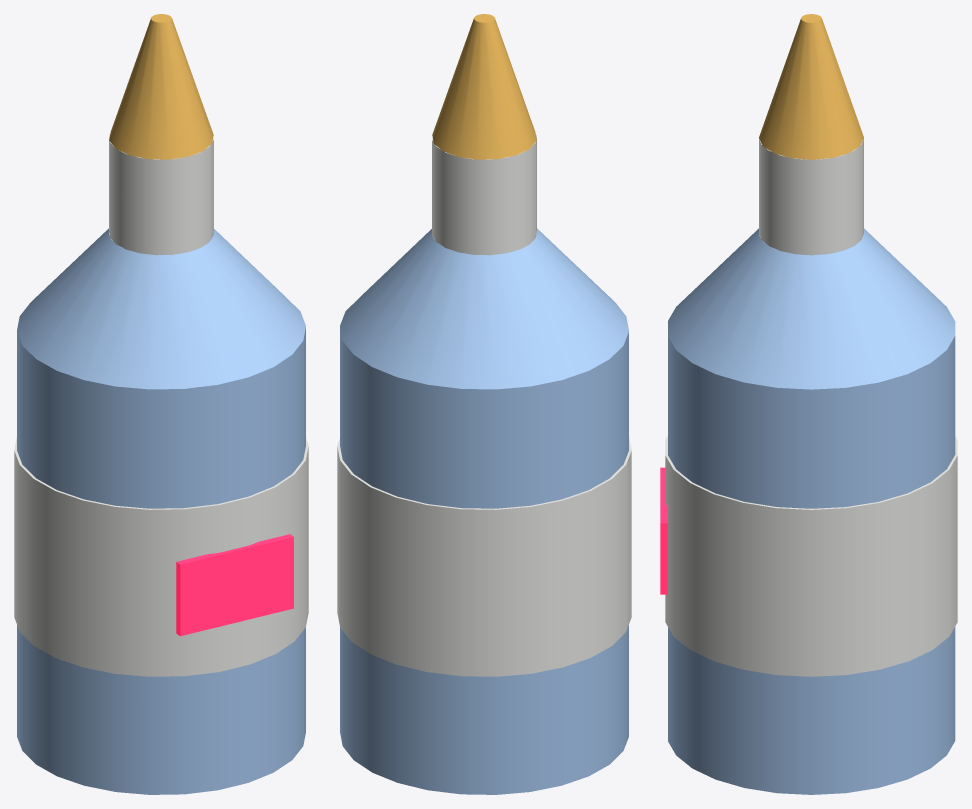
File: lem.glb
The picture shows the model from 3 angles, left to right: view 1: azimuth 30°, elevation 25°; view 2: azimuth 150°, elevation 25°; view 3: azimuth 270°, elevation 25°; orthographic projection.
Parts seen in each view (by area): view 1: lem_Mesh; view 2: lem_Mesh; view 3: lem_Mesh.
Boxes of the visible parts, x1,y1,x2,y2 form: lem_Mesh: [14, 14, 308, 794]; lem_Mesh: [337, 14, 631, 794]; lem_Mesh: [660, 14, 957, 794].
Bounding box in the file's own units: 0.112 × 0.3 × 0.1131.
